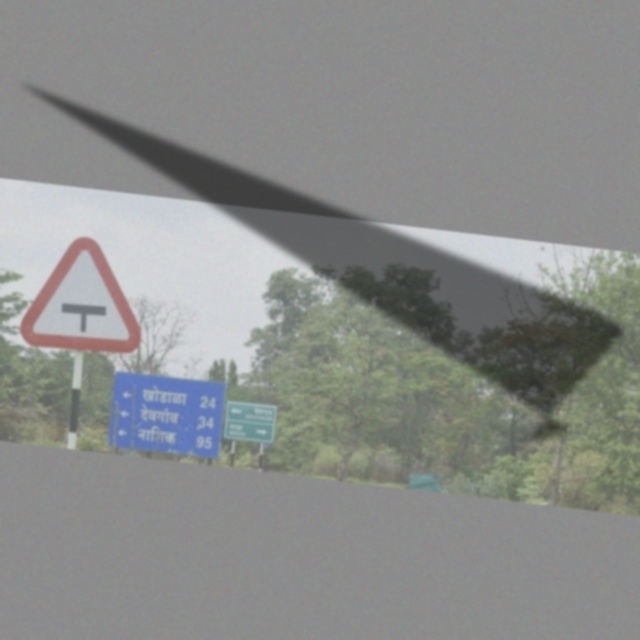T_Intersection: (14, 228, 158, 370)
